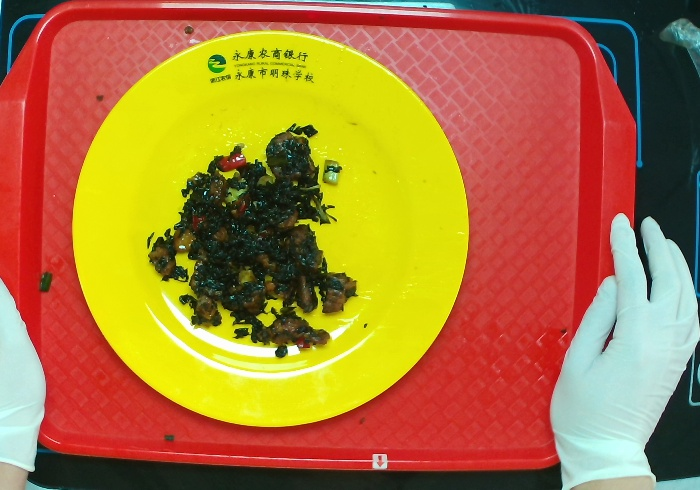YKMZ-Huang_Se_Mian_Pan: (71, 29, 471, 429)
